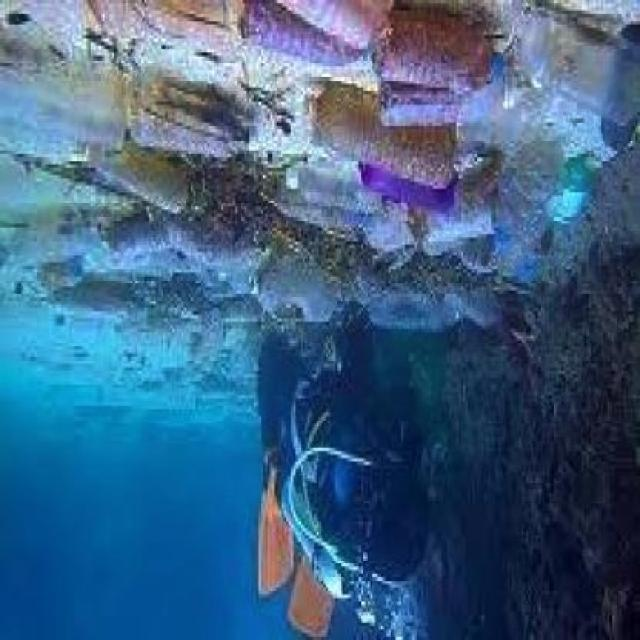pbottle: (302, 84, 461, 185), (508, 11, 635, 126), (372, 10, 508, 95), (117, 91, 266, 151), (239, 248, 338, 329), (235, 3, 358, 66), (282, 158, 391, 224), (268, 3, 384, 46), (388, 88, 478, 129)
